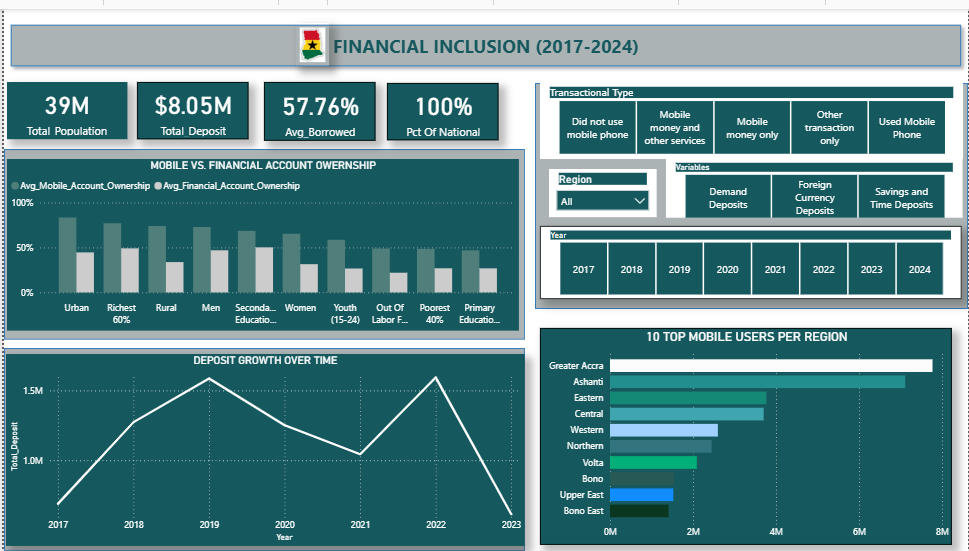

What the dashboard file says about the page in this screenshot:
{"tool":"powerbi","page":{"name":"Page 1","canvas":[1280,720],"ordinal":0},"visuals":[{"type":"shape","box":[0,11.7,1280.5,73.2],"z":0},{"type":"shape","box":[0,450.7,692.2,269.3],"z":1000},{"type":"lineChart","title":"DEPOSIT GROWTH OVER TIME","fields":{"Category":["financial_inclusion db money_supply.Year"],"Y":["financial_inclusion db money_supply.Total_Deposit"]},"box":[2.9,458,689.3,254.6],"z":2000},{"type":"shape","box":[705.4,98,575.1,300],"z":3000},{"type":"clusteredBarChart","title":"10 TOP MOBILE USERS PER REGION","fields":{"Category":["financial_inclusion db interest_rate.Region"],"Y":["financial_inclusion db interest_rate.Total_Mobile_Users"]},"box":[712.7,424.4,547.3,288.3],"z":4000},{"type":"card","fields":{"Values":["financial_inclusion db money_supply.Total_Deposit"]},"box":[177.1,96.6,147.8,76.1],"z":5000},{"type":"shape","box":[0,185.9,692.2,253.2],"z":6000},{"type":"card","fields":{"Values":["financial_inclusion db interest_rate.Total_Mobile_Users"]},"box":[4.4,96.6,159.5,76.1],"z":7000},{"type":"slicer","fields":{"Values":["financial_inclusion db money_supply.Variables"]},"box":[879.5,199,393.7,77.6],"z":8000},{"type":"slicer","fields":{"Values":["financial_inclusion db interest_rate.Region"]},"box":[724.4,212.2,143.4,64.4],"z":9000},{"type":"image","box":[387.8,19,43.9,57.1],"z":10000},{"type":"slicer","fields":{"Values":["financial_inclusion db interest_rate.Transactional Type"]},"box":[712.7,98,562,101],"z":11000},{"type":"slicer","fields":{"Values":["YearTable.Year"]},"box":[712.7,288.3,560.5,96.6],"z":12000},{"type":"clusteredColumnChart","title":"MOBILE VS. FINANCIAL ACCOUNT OWERNSHIP","fields":{"Category":["financial_inclusion db mobile_money.Demographic Group"],"Y":["financial_inclusion db mobile_money.Avg_Mobile_Account_Ownership","financial_inclusion db mobile_money.Avg_Financial_Account_Ownership"]},"box":[4.4,199,680.5,228.3],"z":13000},{"type":"card","fields":{"Values":["financial_inclusion db mobile_money.Avg_Borrowed"]},"box":[345.4,96.6,147.8,77.6],"z":14000},{"type":"card","fields":{"Values":["financial_inclusion db interest_rate.PctOfNational"]},"box":[509.3,98,147.8,76.1],"z":15000}]}

Visuals, with their boxes in screenshot pixels (x1, y1, x2, y2), scaled from the page's 1280x720 canvas onto the 969x551 screenshot:
shape: detection(0, 9, 968, 65)
shape: detection(0, 345, 524, 550)
"DEPOSIT GROWTH OVER TIME" lineChart: detection(2, 350, 524, 545)
shape: detection(534, 75, 968, 305)
"10 TOP MOBILE USERS PER REGION" clusteredBarChart: detection(540, 325, 954, 545)
card - financial_inclusion db money_supply.Total_Deposit: detection(134, 74, 246, 132)
shape: detection(0, 142, 524, 336)
card - financial_inclusion db interest_rate.Total_Mobile_Users: detection(3, 74, 124, 132)
slicer - financial_inclusion db money_supply.Variables: detection(666, 152, 964, 212)
slicer - financial_inclusion db interest_rate.Region: detection(548, 162, 657, 212)
image: detection(294, 15, 327, 58)
slicer - financial_inclusion db interest_rate.Transactional Type: detection(540, 75, 965, 152)
slicer - YearTable.Year: detection(540, 221, 964, 295)
"MOBILE VS. FINANCIAL ACCOUNT OWERNSHIP" clusteredColumnChart: detection(3, 152, 518, 327)
card - financial_inclusion db mobile_money.Avg_Borrowed: detection(261, 74, 373, 133)
card - financial_inclusion db interest_rate.PctOfNational: detection(386, 75, 497, 133)
